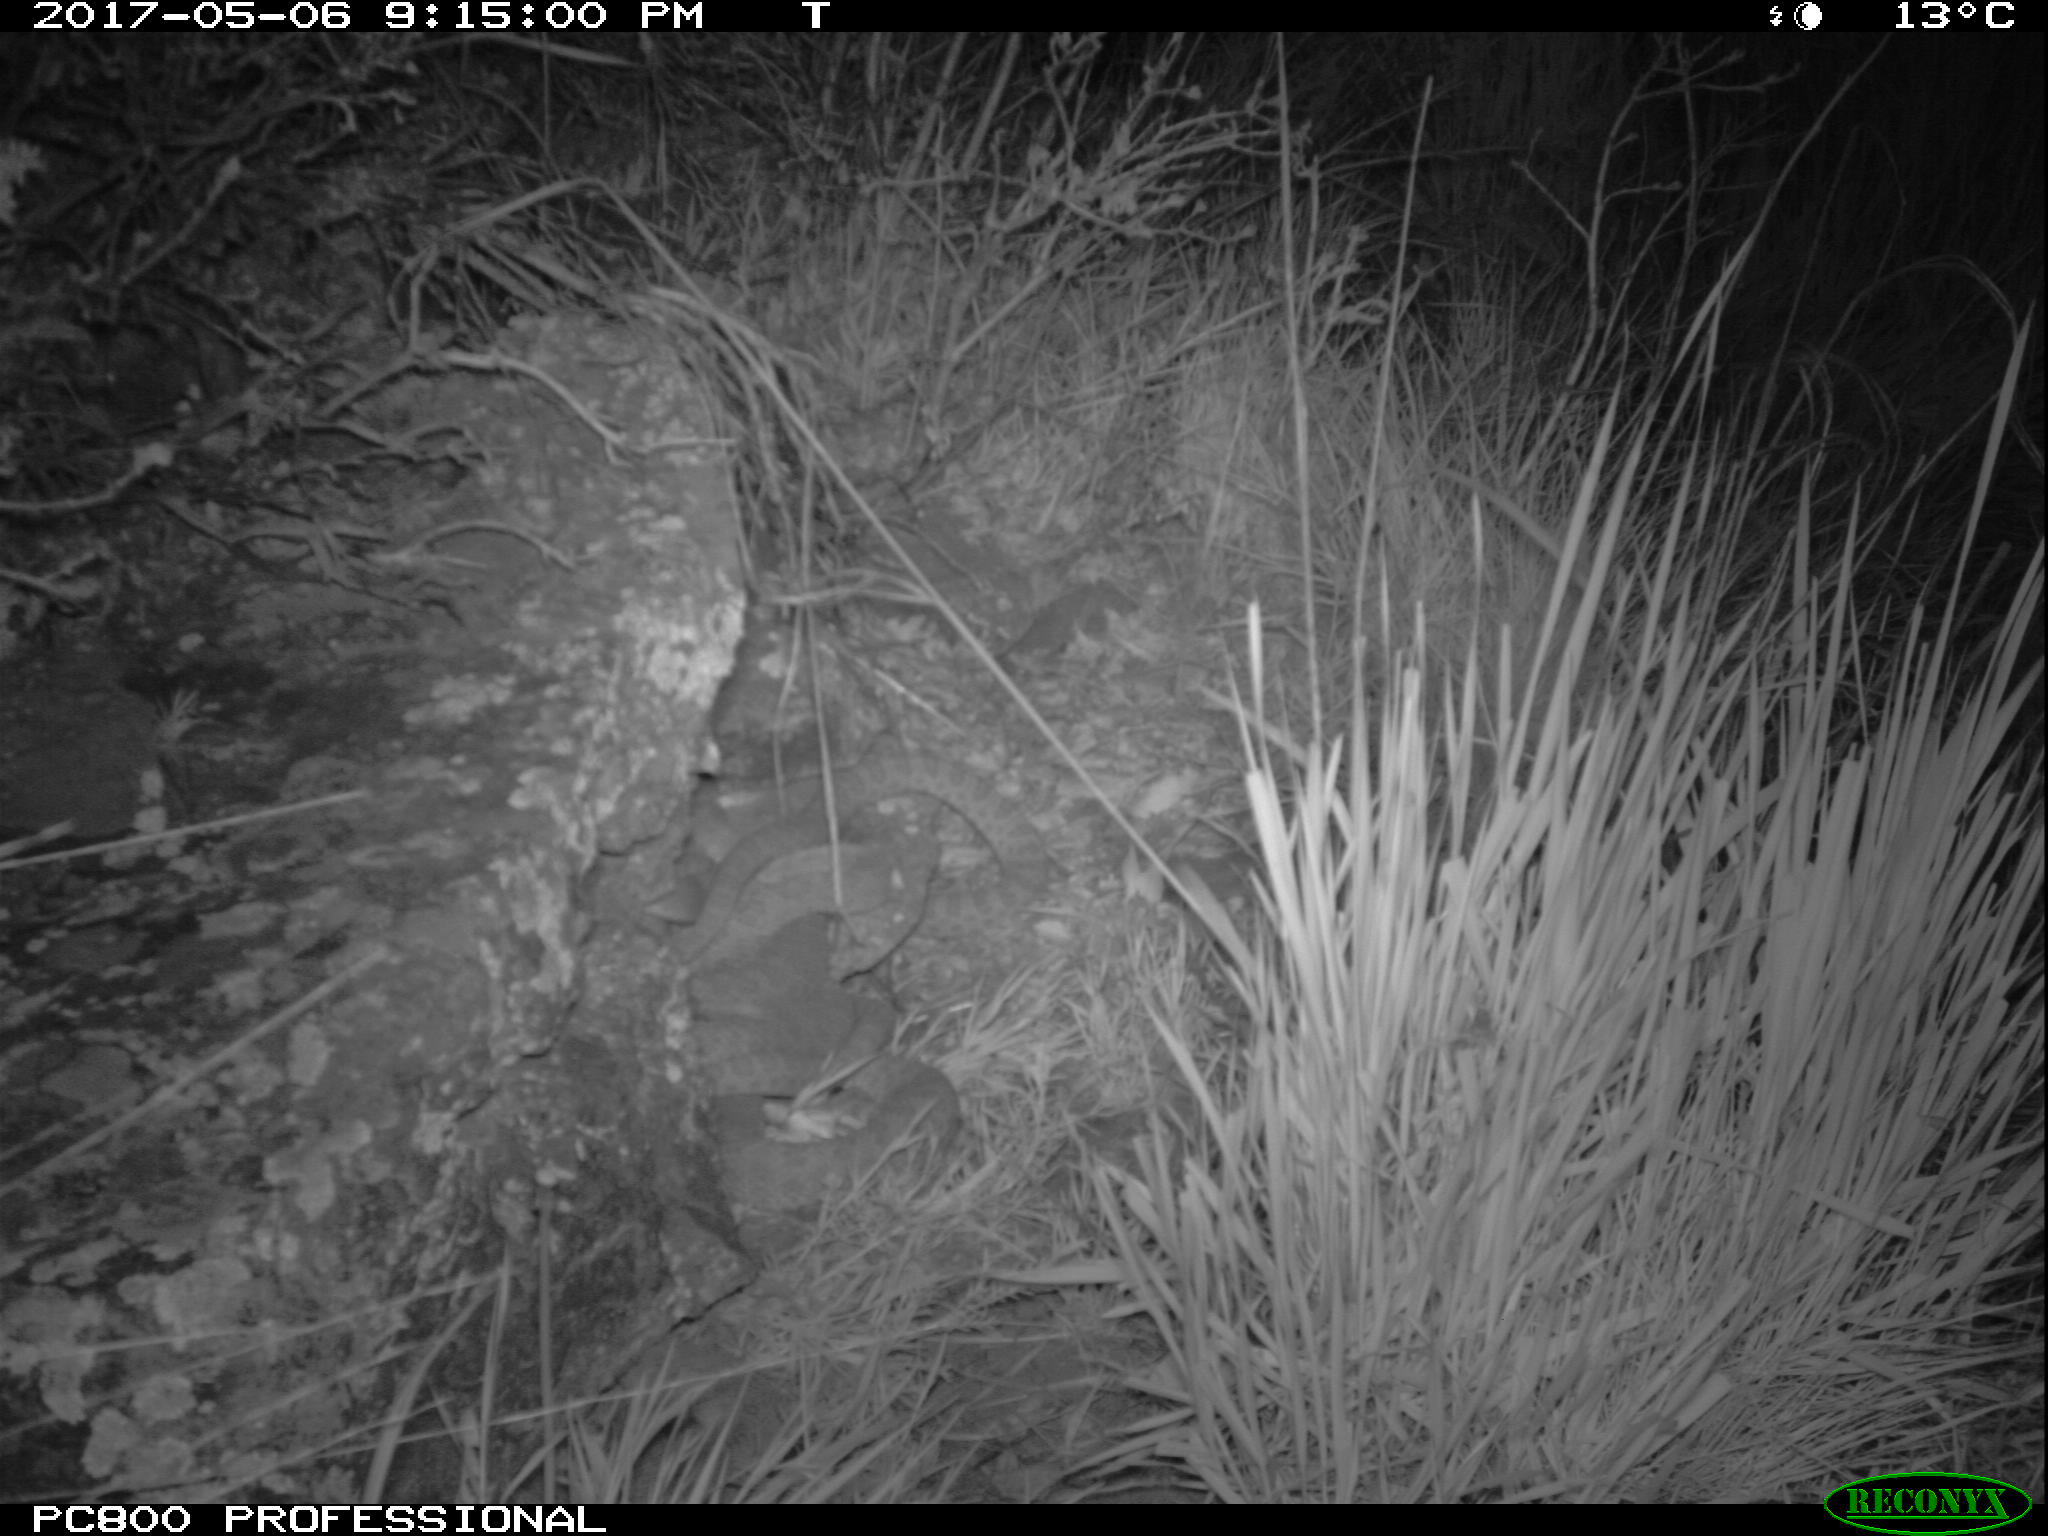snake: (687, 913, 972, 1202), (714, 749, 1053, 921), (674, 1352, 789, 1475)
